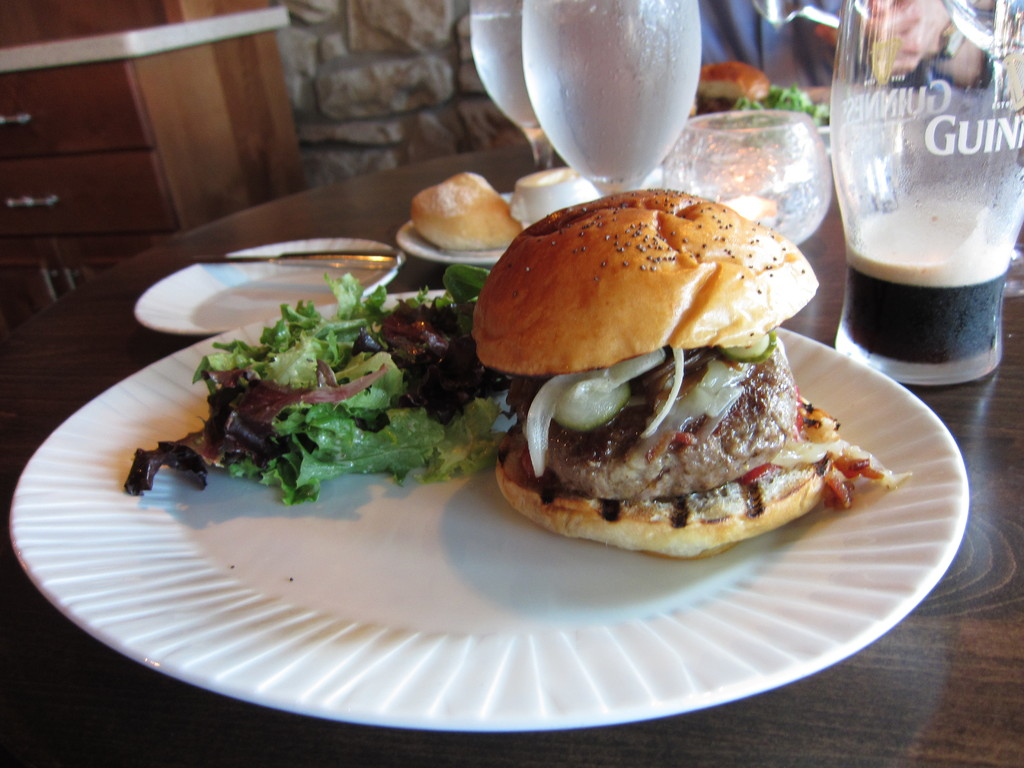Hamburger: (472, 187, 913, 558)
